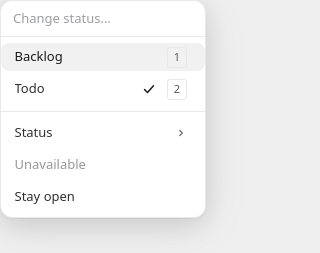
Test: a number picks the item with that keycap while the filter is empty
This screenshot has width=320, height=253.
Press 1 in the field with placeholder "Change status…", box x1=13 y1=9 x2=193 y2=28
Type "to" into the field with placeholder "Change status…". click: (103, 19)
box: x1=13 y1=9 x2=193 y2=28
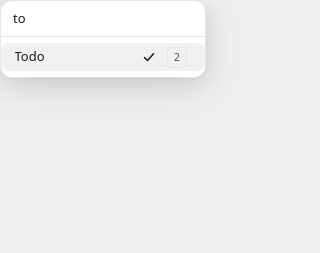
Check: the menu item "Backlog" is gone
